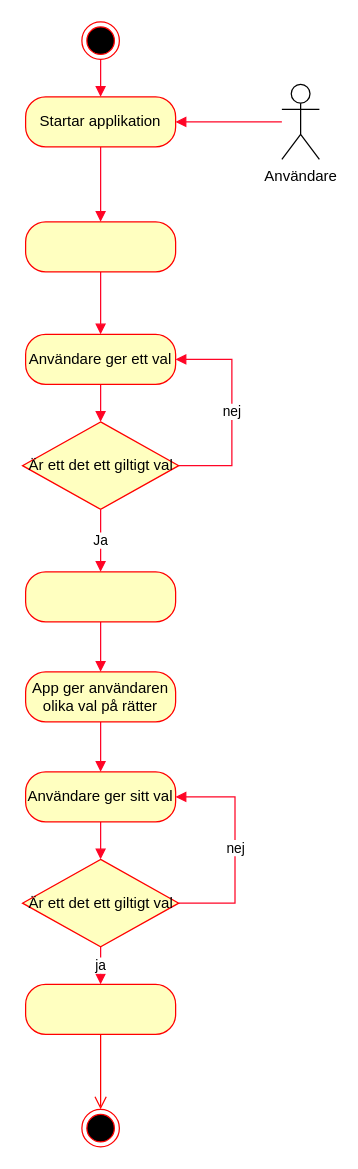
Some shapes in this 358 by 1169 pixel diagram are drawn without their labels. The shapes that lost their labels are listed below. From the top down, each one's centre as x and y in pixels, then its label:
At [100,246]: "App ger användaren olika val på rätt-typer".
At [100,596]: "App skapar nytt objekt för rätt-typen".
At [100,1008]: "Skriv ut valet".
